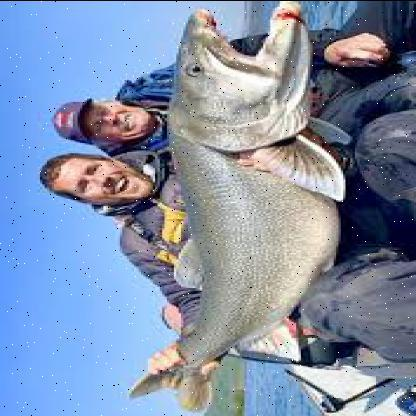fish: (124, 8, 345, 412)
